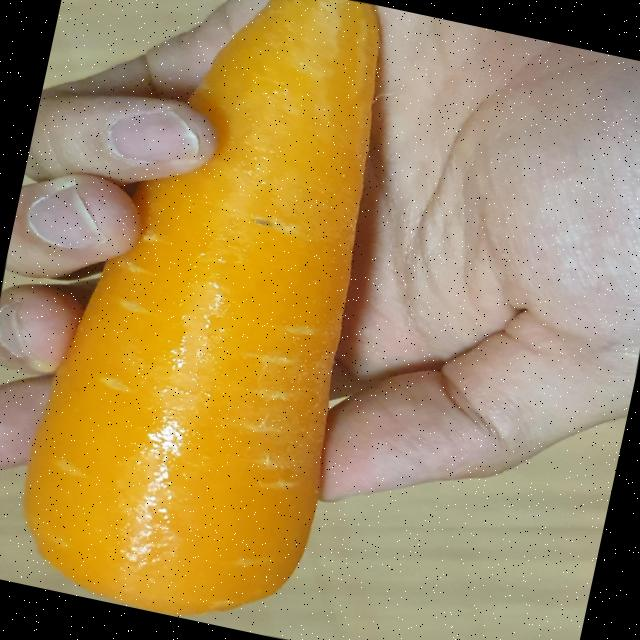carrot: (24, 0, 379, 614)
